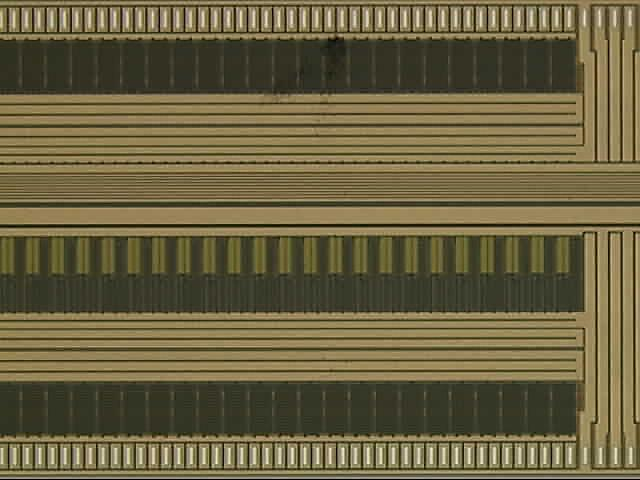PO CONTAMINATION: (263, 27, 363, 143)
